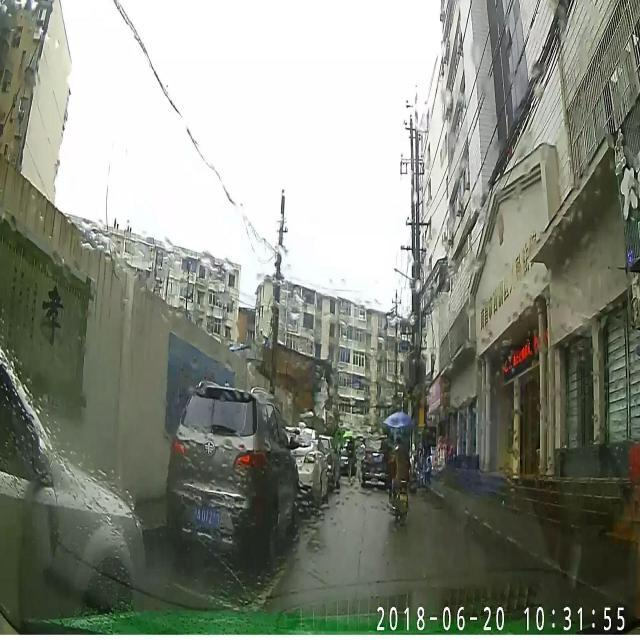car: (163, 378, 299, 556), (282, 423, 330, 502), (358, 434, 396, 490), (393, 427, 415, 517)
